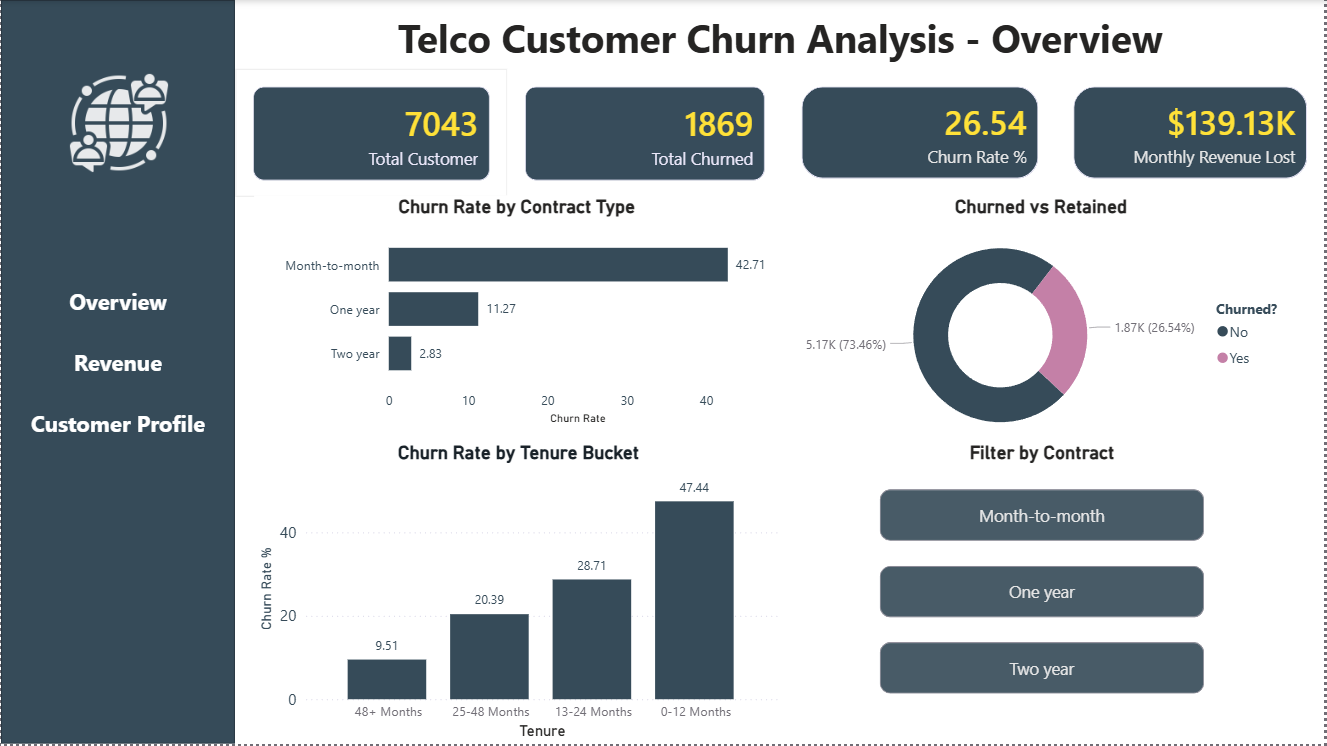

Layout of this report page (visuals, bound fields, positions):
{"tool":"powerbi","page":{"name":"Overview","canvas":[1280,720],"ordinal":0},"visuals":[{"type":"cardVisual","fields":{"Data":["Count(ChurnData.CustomerID)"]},"box":[226.4,65.9,263.5,125],"z":0},{"type":"actionButton","box":[13.5,261.8,199.3,59.1],"z":0,"group":"g1"},{"type":"cardVisual","fields":{"Data":["Sum(ChurnData.Churn_Value)"]},"box":[489.9,65.9,266.9,125],"z":1000},{"type":"actionButton","box":[13.5,320.9,199.3,59.1],"z":1000,"group":"g1"},{"type":"cardVisual","fields":{"Data":["ChurnData.Churn Rate %"]},"box":[756.8,65.9,263.5,123.3],"z":2000},{"type":"actionButton","box":[13.5,380,199.3,59.1],"z":2000,"group":"g1"},{"type":"cardVisual","fields":{"Data":["ChurnData.Monthly Revenue Lost"]},"box":[1020.3,65.9,260.1,123.3],"z":3000},{"type":"clusteredBarChart","title":"Churn Rate by Contract Type","fields":{"Category":["ChurnData.Contract"],"Y":["ChurnData.Churn Rate %"]},"box":[244.9,189.2,508.5,226.4],"z":4000},{"type":"donutChart","title":"Churned vs Retained","fields":{"Category":["ChurnData.Churn_Label"],"Y":["CountNonNull(ChurnData.CustomerID)"]},"box":[753.4,189.2,506.8,250],"z":5000},{"type":"clusteredColumnChart","title":"Churn Rate by Tenure Bucket","fields":{"Y":["ChurnData.Churn Rate %"],"Category":["ChurnData.Tenure_Bucket"]},"box":[244.9,427.4,511.8,292.2],"z":6000},{"type":"advancedSlicerVisual","title":"Filter by Contract ","fields":{"Values":["ChurnData.Contract"]},"box":[844.6,427.4,324.3,292.2],"z":7000},{"type":"textbox","box":[226.4,0,1054.1,65.9],"z":8000},{"type":"shape","box":[0,0,226.4,719.6],"z":9000},{"type":"group","id":"g1","title":"Group 1","box":[13.5,261.8,199.3,177.4],"z":10000},{"type":"image","box":[55.7,65.9,116.6,104.7],"z":11000}]}

Visuals, with their boxes in screenshot pixels (x1, y1, x2, y2), scaled from the page's 1280x720 canvas onto the 1327x746 screenshot:
cardVisual - Count(ChurnData.CustomerID): 235/68/508/198
actionButton: 14/271/221/332
cardVisual - Sum(ChurnData.Churn_Value): 508/68/785/198
actionButton: 14/332/221/394
cardVisual - ChurnData.Churn Rate %: 785/68/1058/196
actionButton: 14/394/221/455
cardVisual - ChurnData.Monthly Revenue Lost: 1058/68/1326/196
"Churn Rate by Contract Type" clusteredBarChart: 254/196/781/431
"Churned vs Retained" donutChart: 781/196/1306/455
"Churn Rate by Tenure Bucket" clusteredColumnChart: 254/443/784/745
"Filter by Contract " advancedSlicerVisual: 876/443/1212/745
textbox: 235/0/1326/68
shape: 0/0/235/745
"Group 1" group: 14/271/221/455
image: 58/68/179/177
